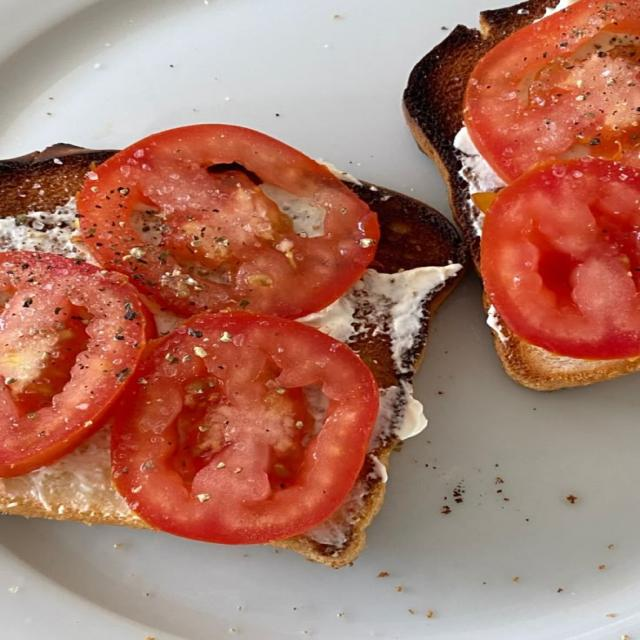sliced bread: (270, 178, 464, 568), (403, 0, 558, 261), (0, 426, 149, 527), (0, 145, 115, 252), (492, 316, 639, 390)
sliced tomatoe: (112, 312, 378, 544), (79, 125, 379, 317), (0, 252, 150, 476), (465, 0, 639, 182), (481, 158, 639, 358)
